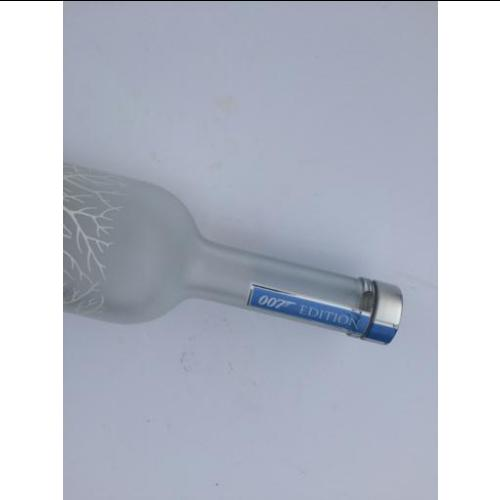glass: (62, 162, 399, 345)
